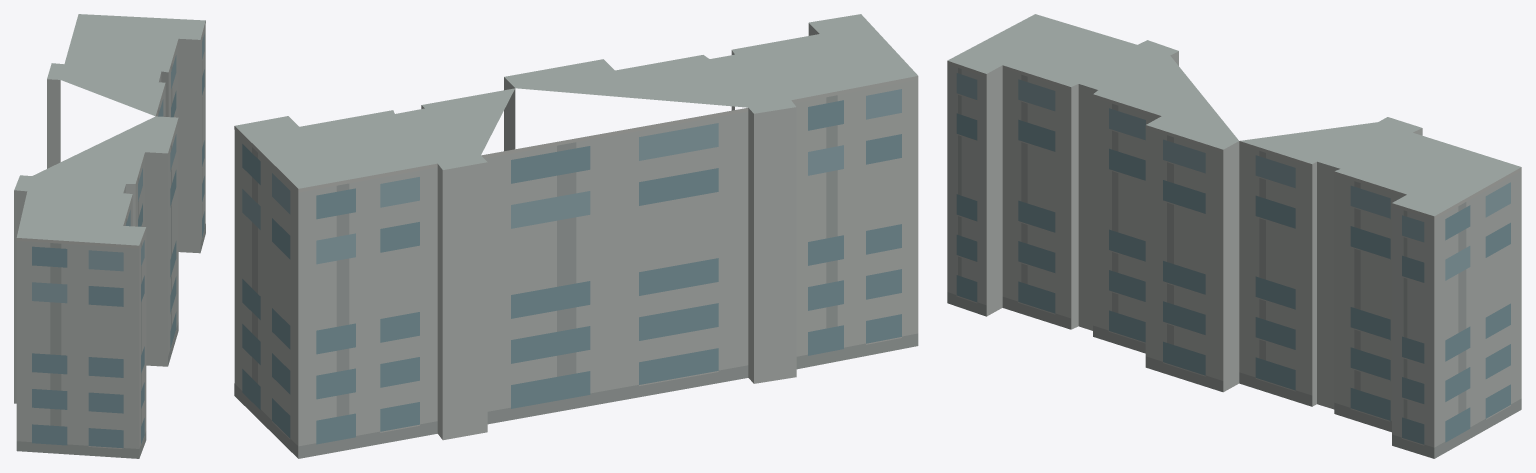
File: survey-upis-32578773.glb
3 views of the same model, side by side, from view 1: azimuth 30°, elevation 25°; view 2: azimuth 150°, elevation 25°; view 3: azimuth 270°, elevation 25° (orthographic). The views are drawn at different scales.
Parts seen in each view (by area): view 1: survey-upis-32578773.tmp; view 2: survey-upis-32578773.tmp; view 3: survey-upis-32578773.tmp.
Boxes of the visible parts, box(x1,y1,x2,y2) form: survey-upis-32578773.tmp: box(14, 14, 205, 458); survey-upis-32578773.tmp: box(234, 14, 918, 458); survey-upis-32578773.tmp: box(947, 14, 1521, 458).
Bounding box in the file's own units: 30.77 × 17.2 × 36.92.
